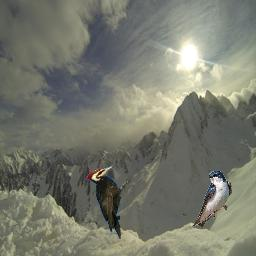Swallow: (192, 170, 232, 228)
Woodpecker: (84, 165, 128, 239)
